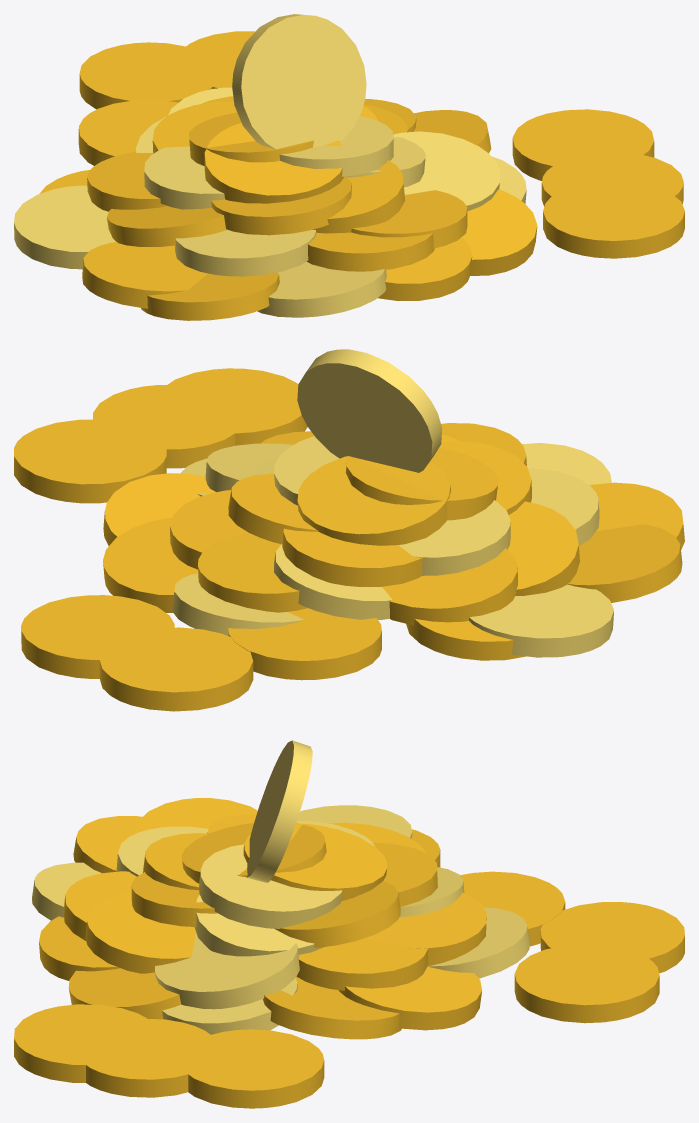
File: coin_pile.obj
3 views of the same model, one above another, from view 1: azimuth 30°, elevation 25°; view 2: azimuth 150°, elevation 25°; view 3: azimuth 270°, elevation 25° (orthographic). The views are drawn at different scales.
Visible parts, largest first — view 1: CoinTop, Coin31, Coin33, Coin34, Coin6, Coin28, Coin5, Coin15, Coin32, Coin3, Coin21, Coin1 (+21 smaller); view 2: CoinTop, Coin33, Coin34, Coin29, Coin35, Coin31, Coin32, Coin8, Coin6, Coin5, Coin17, Coin19 (+18 smaller); view 3: Coin35, Coin34, Coin31, Coin32, Coin33, Coin21, Coin30, Coin13, Coin10, CoinTop, Coin20, Coin11 (+21 smaller).
Part boxes in pixels (<box>): CoinTop: <box>232,14,366,149</box>; Coin31: <box>543,181,684,258</box>; Coin33: <box>79,42,221,109</box>; Coin34: <box>512,109,654,180</box>; Coin6: <box>14,185,115,269</box>; Coin28: <box>204,122,344,203</box>; Coin5: <box>82,242,207,308</box>; Coin15: <box>175,229,316,276</box>; Coin32: <box>541,152,683,211</box>; Coin3: <box>257,261,386,317</box>; Coin21: <box>393,131,500,210</box>; Coin1: <box>462,189,537,275</box>; CoinTop: <box>297,349,442,472</box>; Coin33: <box>99,627,253,711</box>; Coin34: <box>14,419,166,503</box>; Coin29: <box>297,456,450,545</box>; Coin35: <box>21,595,174,678</box>; Coin31: <box>156,368,307,445</box>; Coin32: <box>93,385,245,468</box>; Coin8: <box>228,608,381,680</box>; Coin6: <box>469,584,613,657</box>; Coin5: <box>567,524,682,602</box>; Coin17: <box>382,548,517,625</box>; Coin19: <box>198,532,307,612</box>; Coin35: <box>514,944,659,1023</box>; Coin34: <box>179,1029,324,1108</box>; Coin31: <box>14,1004,157,1082</box>; Coin32: <box>75,1019,219,1097</box>; Coin33: <box>540,902,684,973</box>; Coin21: <box>155,934,299,1009</box>; Coin30: <box>199,844,342,928</box>; Coin13: <box>85,892,196,973</box>; Coin10: <box>338,966,481,1030</box>; CoinTop: <box>247,740,312,882</box>; Coin20: <box>296,938,428,990</box>; Coin11: <box>263,976,401,1039</box>.
Size of the model in its own units: 4.47 by 1.5 by 4.4.
